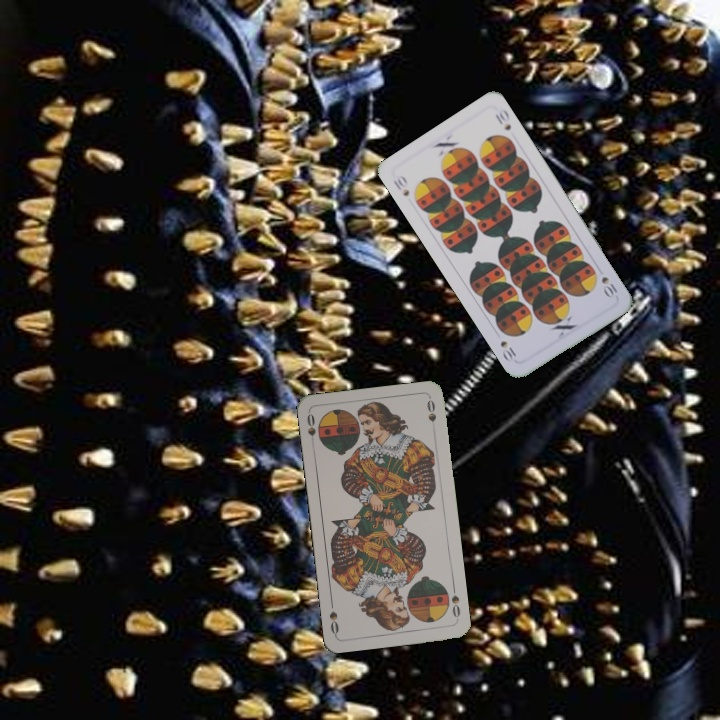S10: (597, 272, 620, 301), (389, 171, 412, 199)
SO: (447, 582, 463, 623), (303, 409, 318, 450)
